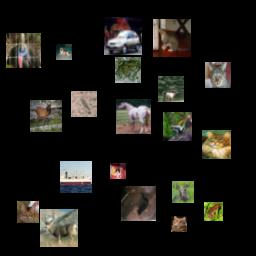automobile: (104, 17, 142, 55)
bird: (6, 33, 41, 68), (71, 91, 97, 117)
cat: (153, 19, 191, 57), (121, 186, 156, 221), (202, 130, 231, 159), (205, 62, 231, 88), (17, 201, 39, 223), (171, 216, 187, 232)
deer: (40, 209, 78, 247), (30, 100, 62, 132), (158, 76, 184, 102), (172, 181, 194, 203)
dog: (56, 44, 72, 60), (110, 163, 126, 179)
frog: (163, 112, 192, 141), (115, 57, 141, 83), (204, 202, 223, 221)
ship: (60, 161, 92, 193)
